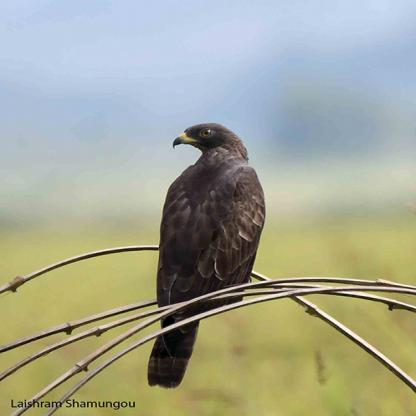Burung: (146, 123, 272, 382)
